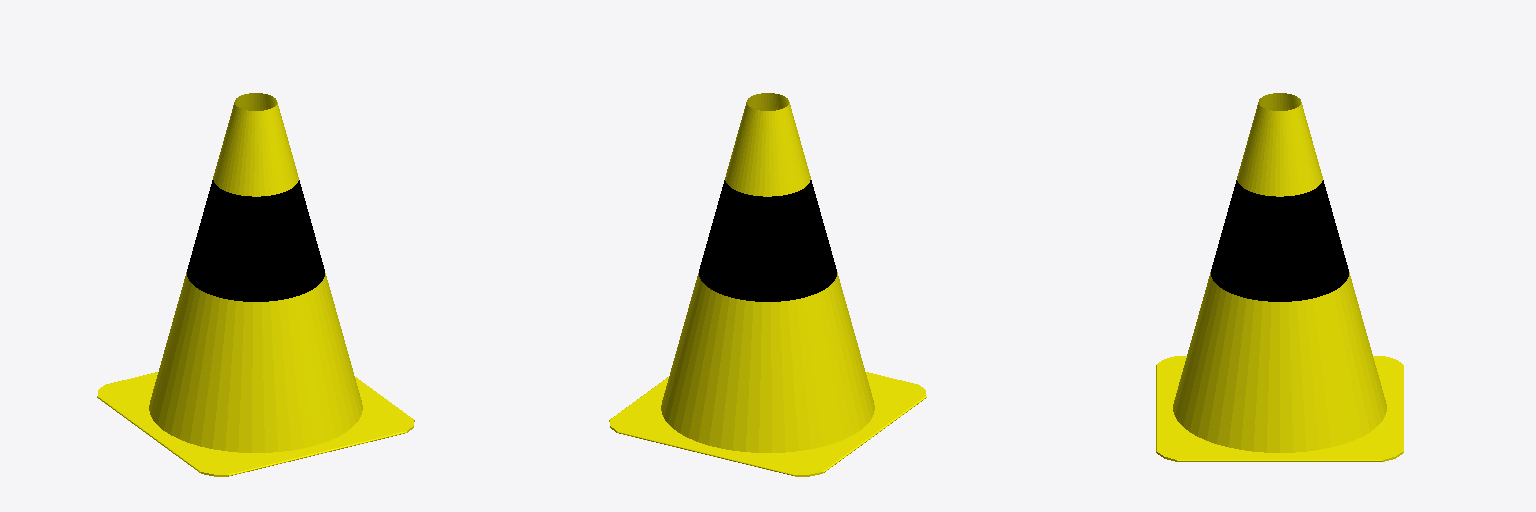
File: yellow_cone.obj
3 renders of one model, left to right at view 1: azimuth 30°, elevation 25°; view 2: azimuth 150°, elevation 25°; view 3: azimuth 270°, elevation 25°, orthographic.
Visible parts, largest first — view 1: Boole; view 2: Boole; view 3: Boole.
Boxes of the visible parts, <box> form: Boole: <box>97,93,414,476</box>; Boole: <box>609,93,926,476</box>; Boole: <box>1156,93,1403,461</box>.
Bounding box in the file's own units: 2200 × 3019 × 2200.